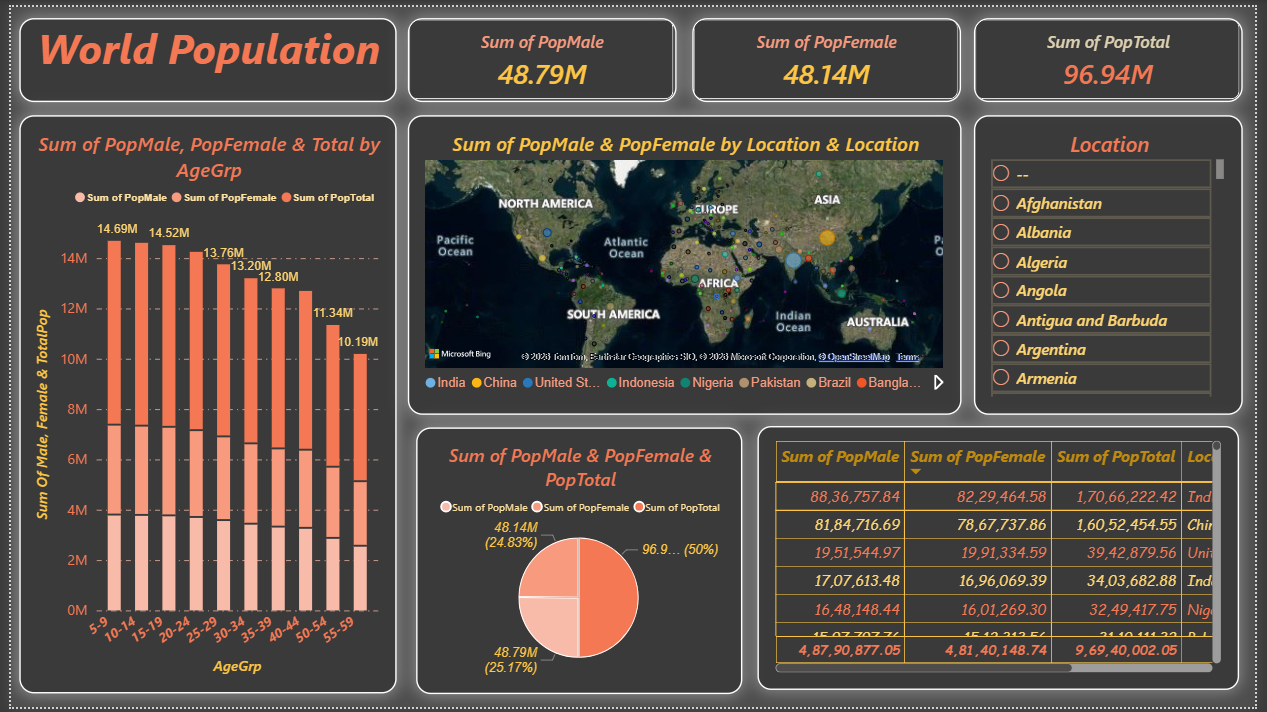

Layout of this report page (visuals, bound fields, positions):
{"tool":"powerbi","page":{"name":"Page 1","canvas":[1280,720],"ordinal":0},"visuals":[{"type":"textbox","title":"World Population","box":[8.3,11.7,388.3,86.7],"z":0},{"type":"cardVisual","fields":{"Data":["Sum(Query1.PopMale)"]},"box":[408.3,11.7,276.7,86.7],"z":1},{"type":"columnChart","title":"Sum of PopMale, PopFemale & Total    by AgeGrp","fields":{"Category":["Query1.AgeGrp"],"Y":["Sum(Query1.PopMale)","Sum(Query1.PopFemale)","Sum(Query1.PopTotal)"]},"box":[8.6,111.4,388.6,608.6],"z":4},{"type":"map","title":"Sum of PopMale & PopFemale by Location & Location","fields":{"Category":["Query1.Location"],"Series":["Query1.Location"],"Size":["Sum(Query1.PopMale)"]},"box":[408.3,111.7,570,308.3],"z":5},{"type":"listSlicer","fields":{"Values":["Query1.Location"]},"box":[991.7,111.7,276.7,308.3],"z":6},{"type":"tableEx","fields":{"Values":["Sum(Query1.PopMale)","Sum(Query1.PopFemale)","Sum(Query1.PopTotal)","Query1.Location"]},"box":[768,432,496,272],"z":7},{"type":"pieChart","title":"Sum of PopMale & PopFemale & PopTotal","fields":{"Y":["Sum(Query1.PopMale)","Sum(Query1.PopFemale)","Sum(Query1.PopTotal)"]},"box":[416.6,432.2,335.8,274.9],"z":8},{"type":"cardVisual","fields":{"Data":["Sum(Query1.PopFemale)"]},"box":[701.7,11.7,276.7,86.7],"z":9},{"type":"cardVisual","fields":{"Data":["Sum(Query1.PopTotal)"]},"box":[991.7,11.7,276.7,86.7],"z":10}]}

Visuals, with their boxes in screenshot pixels (x1, y1, x2, y2), scaled from the page's 1280x720 canvas onto the 1267x712 screenshot:
"World Population" textbox: [x1=8, y1=12, x2=393, y2=97]
cardVisual - Sum(Query1.PopMale): [x1=404, y1=12, x2=678, y2=97]
"Sum of PopMale, PopFemale & Total    by AgeGrp" columnChart: [x1=9, y1=110, x2=393, y2=711]
"Sum of PopMale & PopFemale by Location & Location" map: [x1=404, y1=110, x2=968, y2=415]
listSlicer - Query1.Location: [x1=982, y1=110, x2=1256, y2=415]
tableEx - Sum(Query1.PopMale) x Sum(Query1.PopFemale): [x1=760, y1=427, x2=1251, y2=696]
"Sum of PopMale & PopFemale & PopTotal" pieChart: [x1=412, y1=427, x2=745, y2=699]
cardVisual - Sum(Query1.PopFemale): [x1=695, y1=12, x2=968, y2=97]
cardVisual - Sum(Query1.PopTotal): [x1=982, y1=12, x2=1256, y2=97]
